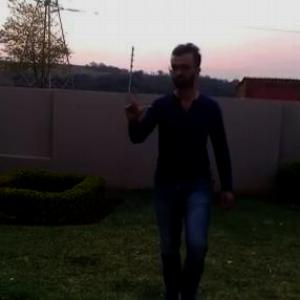land_hand: (125, 78, 159, 121)
